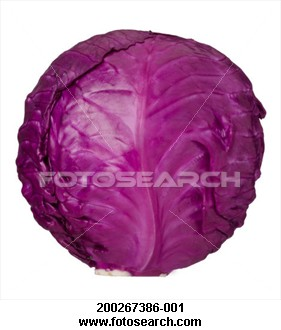cabbage: (14, 28, 267, 278)
